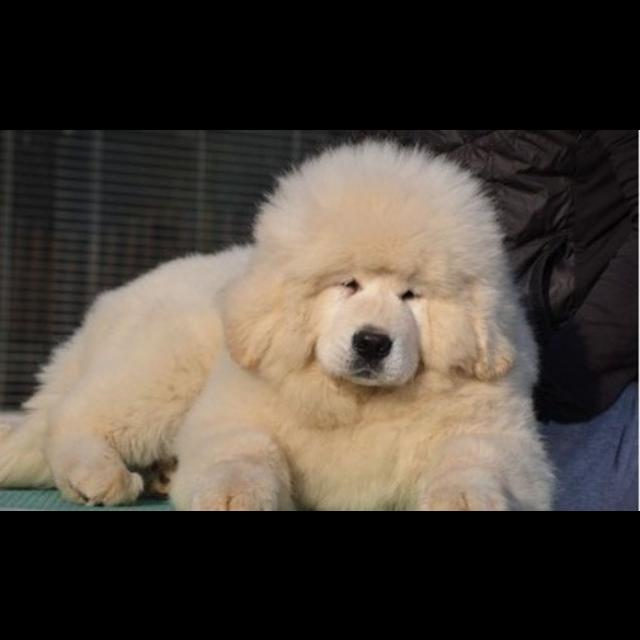other_dog_breed: (2, 137, 558, 511)
